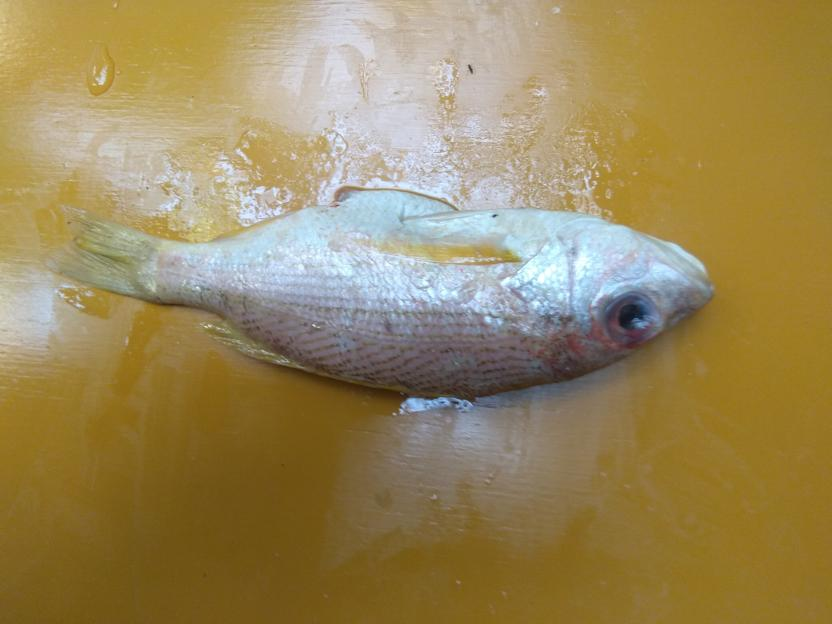Fish head: (521, 217, 716, 372)
Fish tail: (43, 205, 174, 305)
